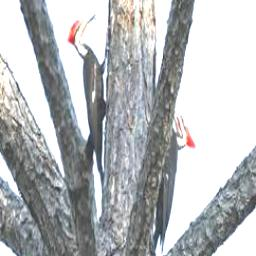Woodpecker: (68, 14, 110, 186), (153, 98, 197, 253)
